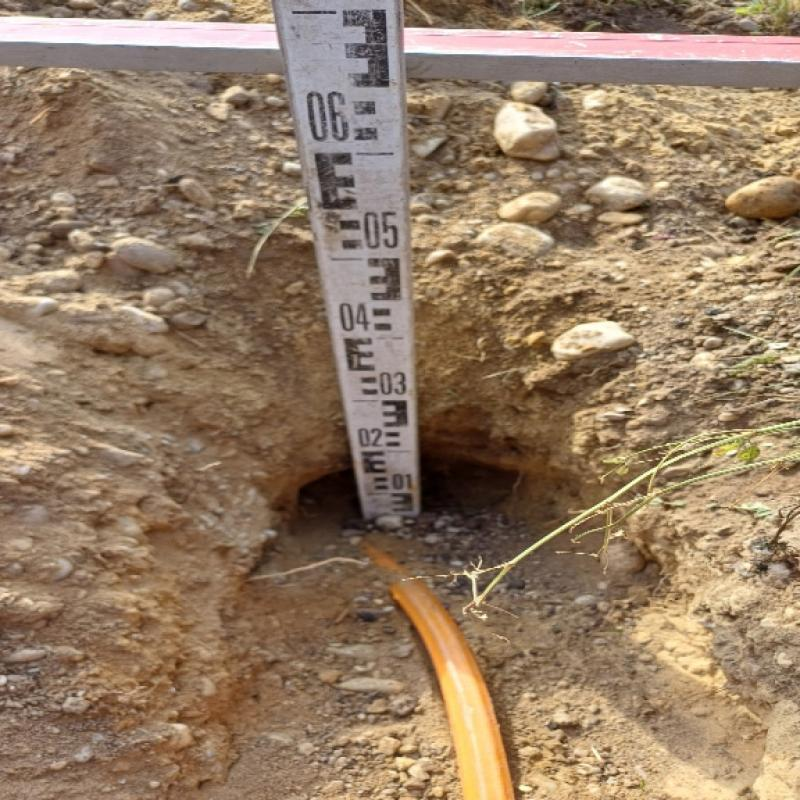Orang-Speednetrohrchen: (353, 548, 522, 800)
